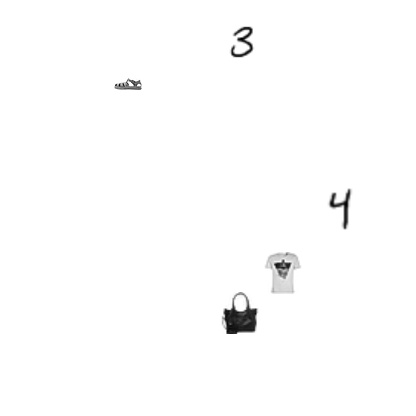3: (221, 21, 263, 63)
4: (314, 177, 370, 233)
Bag: (219, 292, 261, 334)
Sandal: (114, 70, 142, 98)
T-shirt/top: (262, 252, 304, 294)
